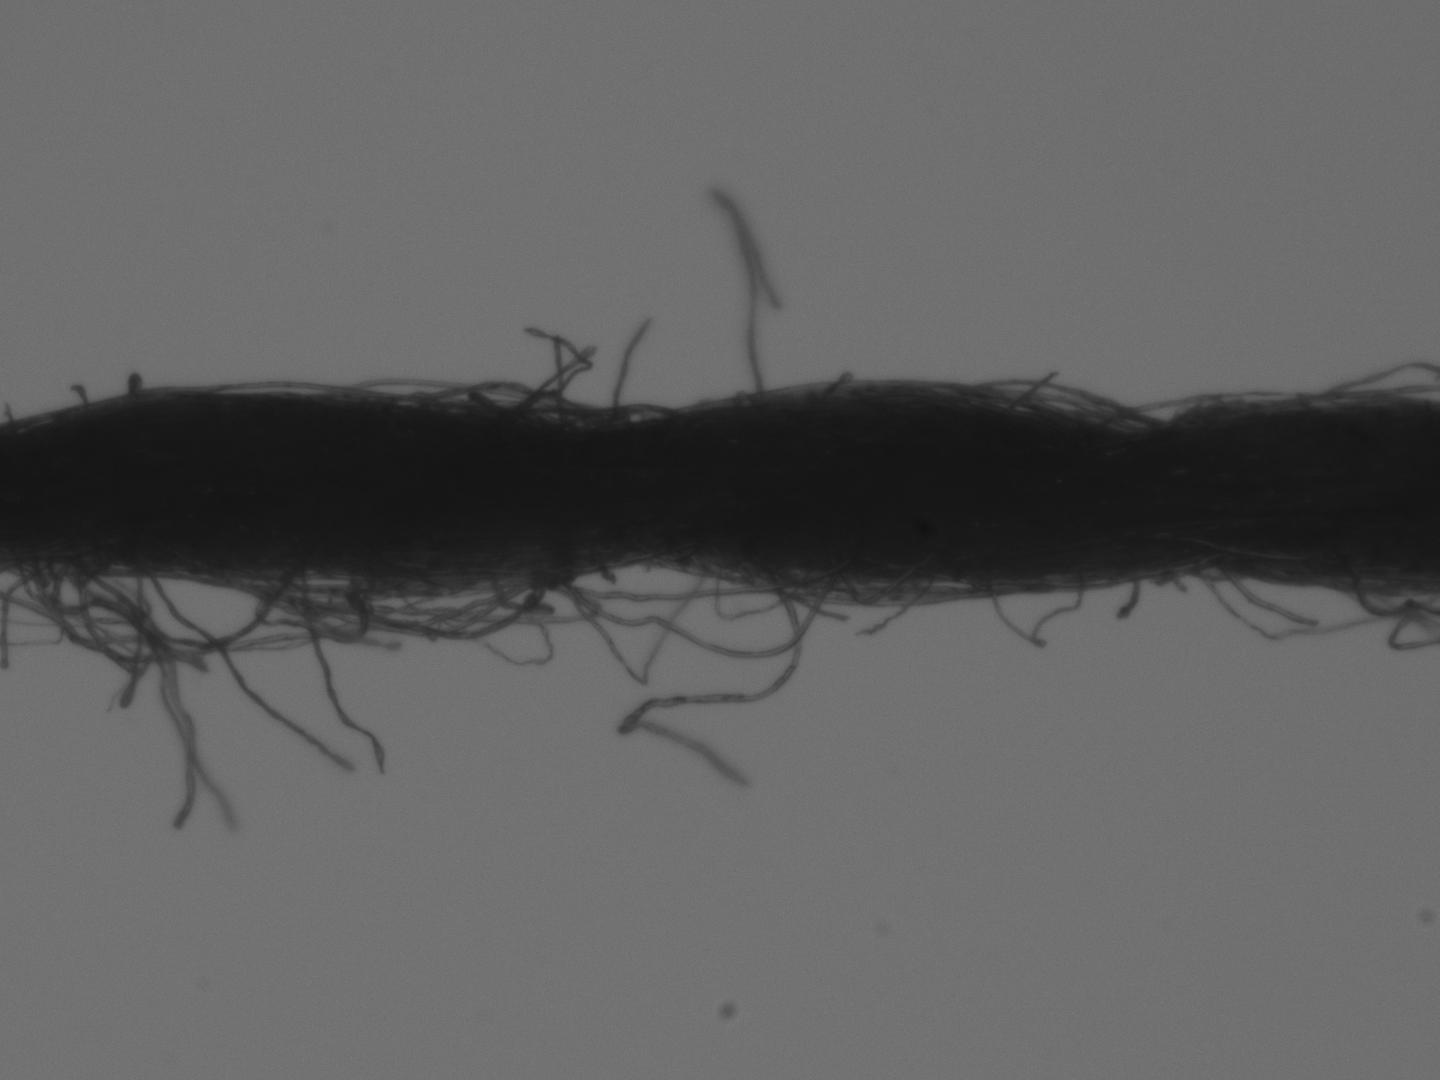loop_fiber: (278, 565, 549, 644), (542, 563, 708, 686), (82, 564, 304, 650), (956, 377, 1162, 432), (984, 567, 1091, 653), (400, 377, 591, 424), (713, 563, 835, 623), (593, 398, 672, 427), (390, 389, 446, 412)
protruding_fiber: (147, 569, 354, 774), (604, 311, 654, 406)
